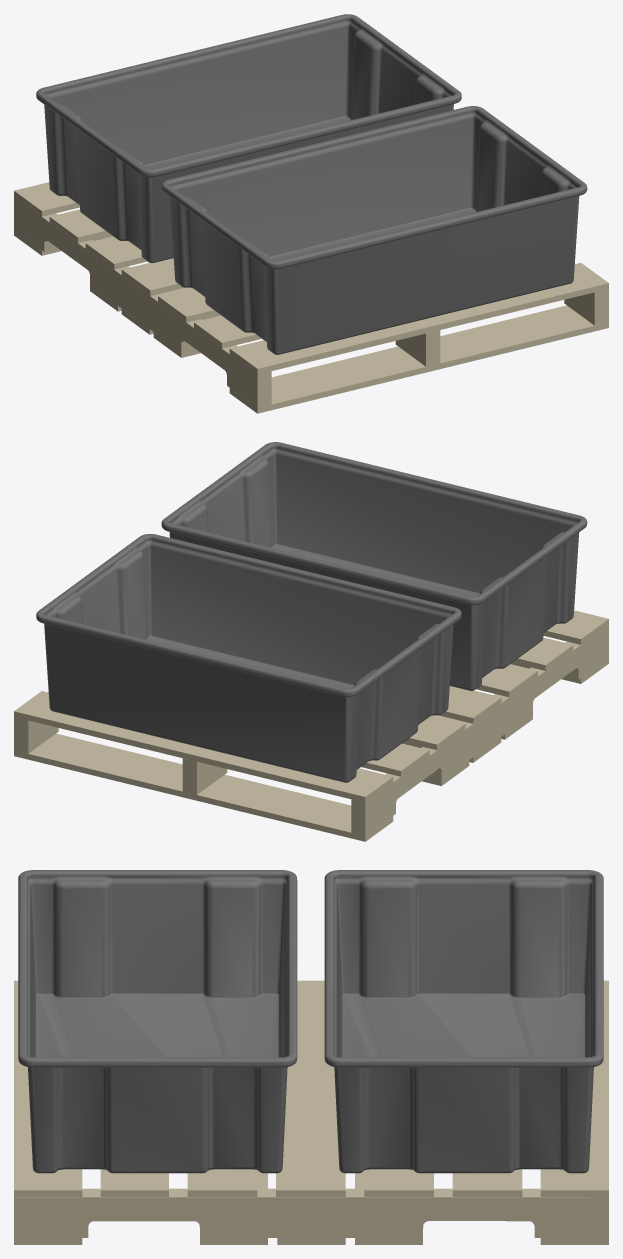
3 views of the same model, one above another, from view 1: azimuth 30°, elevation 25°; view 2: azimuth 150°, elevation 25°; view 3: azimuth 270°, elevation 25° (orthographic). The views are drawn at different scales.
Parts seen in each view (by area): view 1: Bin-Large:005_LOD003, Bin-Large:005_LOD002, White Pallet:016_LOD1; view 2: Bin-Large:005_LOD002, Bin-Large:005_LOD003, White Pallet:016_LOD1; view 3: Bin-Large:005_LOD002, Bin-Large:005_LOD003, White Pallet:016_LOD1.
Boxes of the visible parts, <box> form: Bin-Large:005_LOD003: <box>161,106,587,354</box>; Bin-Large:005_LOD002: <box>36,14,461,262</box>; White Pallet:016_LOD1: <box>14,182,608,413</box>; Bin-Large:005_LOD002: <box>36,534,461,782</box>; Bin-Large:005_LOD003: <box>161,442,587,690</box>; White Pallet:016_LOD1: <box>14,610,608,841</box>; Bin-Large:005_LOD002: <box>324,870,603,1173</box>; Bin-Large:005_LOD003: <box>18,870,297,1173</box>; White Pallet:016_LOD1: <box>14,980,608,1244</box>.
Bounding box in the file's own units: 40 × 15.62 × 48.
